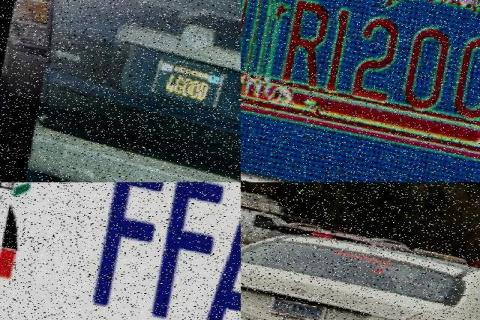LicensePlate: (249, 0, 480, 140), (52, 182, 240, 320), (144, 51, 226, 109), (261, 292, 322, 319)
